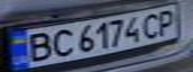1: (93, 20, 112, 50)
4: (121, 14, 145, 43)
6: (75, 21, 96, 53)
7: (106, 16, 127, 47)
B: (18, 29, 57, 63)
C: (48, 26, 78, 59), (139, 10, 166, 39)
P: (154, 7, 181, 36)
